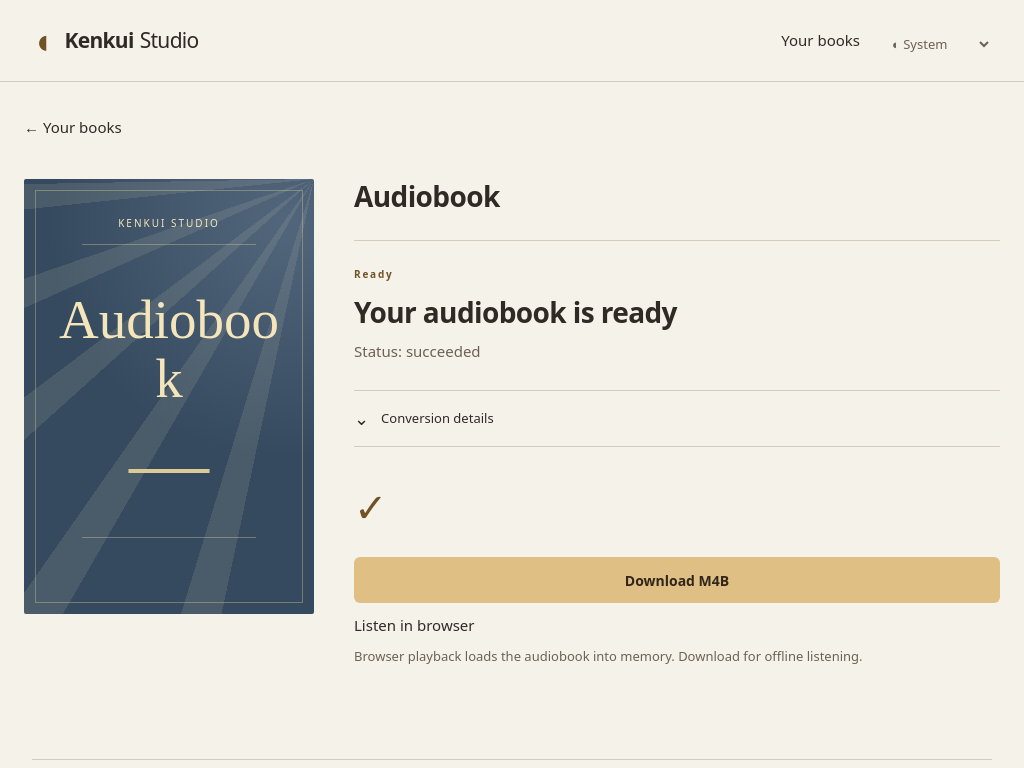
Test: job lifecycle and host behavior › shows download progress and cancels via button
Click the button "Download M4B" at (677, 580), box [354,557,1000,603]
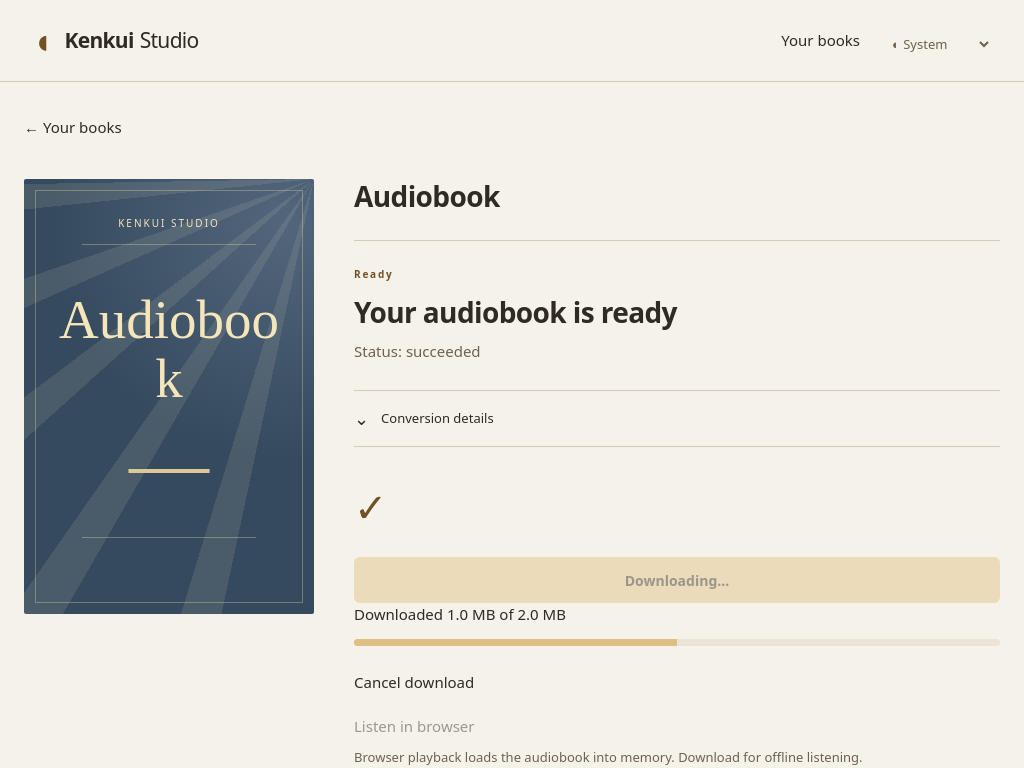
Result: the text "Downloaded 1.0 MB of 2.0 MB" is shown at [354,604,566,624]
Click the button "Cancel download" at (414, 682), box [354,660,474,704]
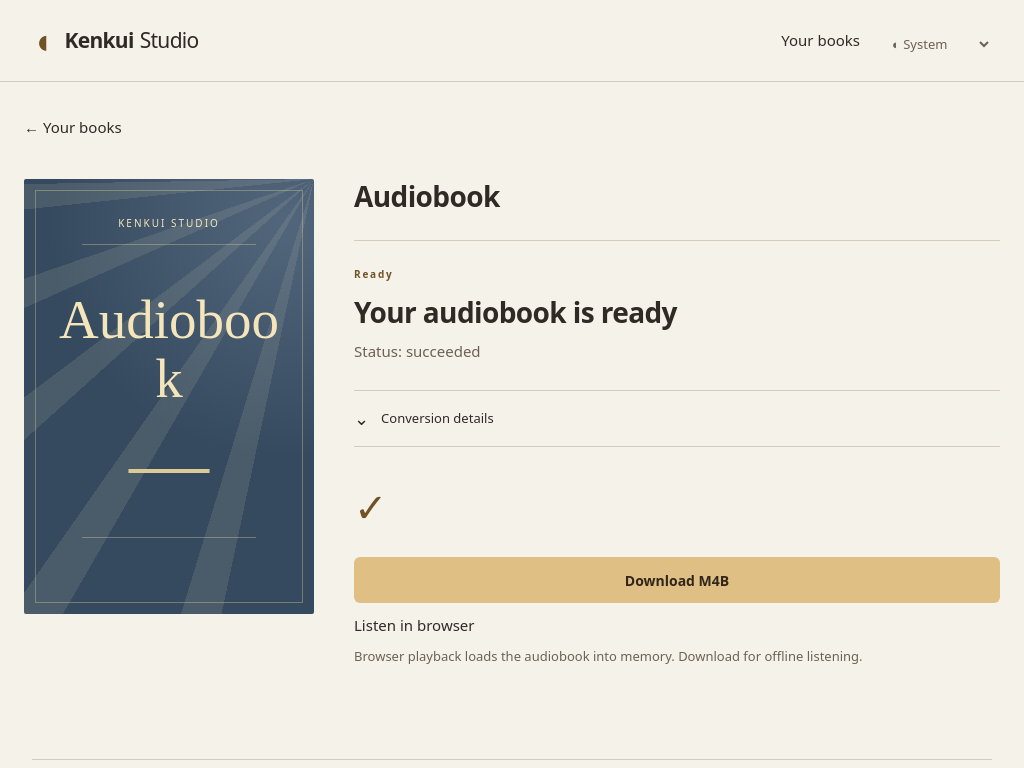
Result: the button "Download M4B" is enabled at [354,557,1000,603]
Result: the message "Downloaded 1.0 MB of 2.0 MB" is gone
